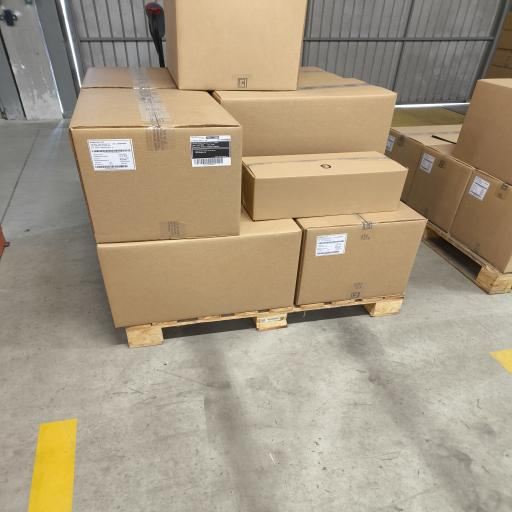pallet: (126, 296, 403, 347), (423, 222, 511, 294)
